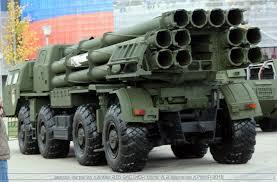MIL_SAM_TEL: (7, 7, 262, 171)
